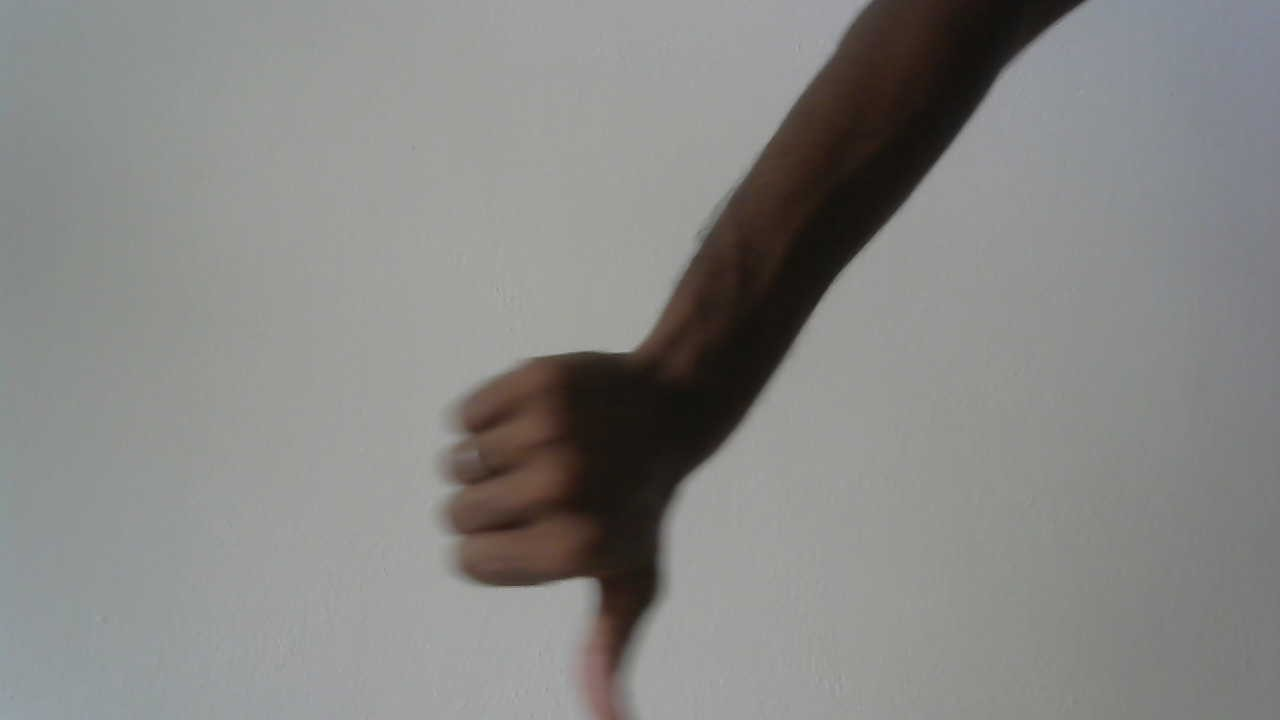thumbsdown: (436, 331, 707, 718)
